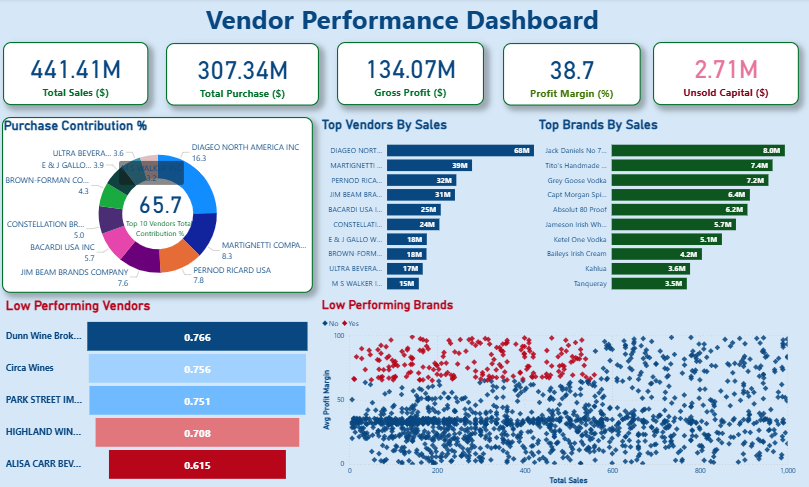

This screenshot's page, from the dashboard's own definition file:
{"tool":"powerbi","page":{"name":"Dashboard","canvas":[1500,900],"ordinal":0},"visuals":[{"type":"card","fields":{"Values":["Sum(vendor_sales_summary.TotalPurchaseDollars)"]},"box":[315.8,82.4,280.9,114.6],"z":0},{"type":"card","fields":{"Values":["Sum(vendor_sales_summary.TotalSalesDollars)"]},"box":[16.8,81,266.9,116],"z":1000},{"type":"card","fields":{"Values":["Sum(vendor_sales_summary.GrossProfit)"]},"box":[630.2,81,269.7,116],"z":2000},{"type":"card","fields":{"Values":["Avg(vendor_sales_summary.ProfitMargin)"]},"box":[934.8,82.4,252.9,114.6],"z":3000},{"type":"card","fields":{"Values":["Sum(vendor_sales_summary.UnsoldCapital)"]},"box":[1210.1,81,268.3,116],"z":4000},{"type":"textbox","box":[0,0,1500,83],"z":5000},{"type":"donutChart","title":"Purchase Contribution % ","fields":{"Category":["PurchaseContribution.VendorName"],"Y":["Sum(PurchaseContribution.PurchaseContribution%)"]},"box":[14.5,219.4,571,322.6],"z":6000},{"type":"card","fields":{"Values":["Sum(PurchaseContribution.PurchaseContribution%)"]},"box":[211.8,266.7,188.2,233.3],"z":7000},{"type":"barChart","title":"Top Vendors By Sales","fields":{"Category":["vendor_sales_summary.VendorName"],"Y":["Sum(vendor_sales_summary.TotalSalesDollars)"]},"box":[597.3,219.2,447.9,332.9],"z":8000},{"type":"barChart","title":"Top Brands By Sales","fields":{"Category":["vendor_sales_summary.Description"],"Y":["Sum(vendor_sales_summary.TotalSalesDollars)"]},"box":[995.9,219.2,504.1,332.9],"z":9000},{"type":"funnel","title":"Low Performing Vendors","fields":{"Category":["LowTurnoverVendor.VendorName"],"Y":["Avg(LowTurnoverVendor.AvgStockTurnOver)"]},"box":[16.1,551.6,569.4,348.4],"z":10000},{"type":"scatterChart","title":"Low Performing Brands","fields":{"X":["Sum(BrandPerformance.TotalSales)"],"Y":["Sum(BrandPerformance.AvgProfitMargin)"],"Series":["BrandPerformance.TargetBrand"],"Category":["BrandPerformance.Description"]},"box":[596.8,551.6,880.6,348.4],"z":11000}]}

Visuals, with their boxes in screenshot pixels (x1, y1, x2, y2), scaled from the page's 1500x900 canvas onto the 809x487 screenshot:
card - Sum(vendor_sales_summary.TotalPurchaseDollars): x1=170, y1=45, x2=322, y2=107
card - Sum(vendor_sales_summary.TotalSalesDollars): x1=9, y1=44, x2=153, y2=107
card - Sum(vendor_sales_summary.GrossProfit): x1=340, y1=44, x2=485, y2=107
card - Avg(vendor_sales_summary.ProfitMargin): x1=504, y1=45, x2=641, y2=107
card - Sum(vendor_sales_summary.UnsoldCapital): x1=653, y1=44, x2=797, y2=107
textbox: x1=0, y1=0, x2=808, y2=45
"Purchase Contribution % " donutChart: x1=8, y1=119, x2=316, y2=293
card - Sum(PurchaseContribution.PurchaseContribution%): x1=114, y1=144, x2=216, y2=271
"Top Vendors By Sales" barChart: x1=322, y1=119, x2=564, y2=299
"Top Brands By Sales" barChart: x1=537, y1=119, x2=808, y2=299
"Low Performing Vendors" funnel: x1=9, y1=298, x2=316, y2=486
"Low Performing Brands" scatterChart: x1=322, y1=298, x2=797, y2=486
